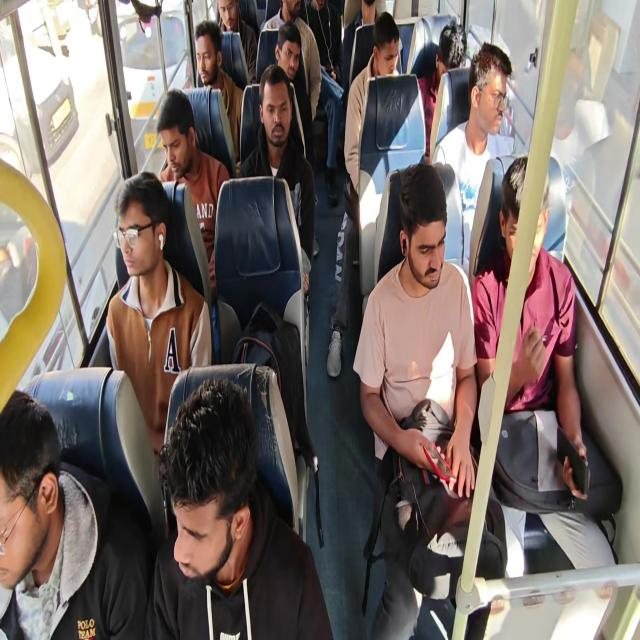person: (154, 380, 272, 594), (0, 389, 79, 602), (387, 165, 451, 303), (496, 152, 551, 281), (117, 174, 179, 279), (469, 40, 516, 150), (257, 60, 301, 150), (160, 89, 199, 184), (182, 21, 225, 99), (370, 15, 404, 82), (275, 24, 307, 90), (438, 15, 469, 69)
